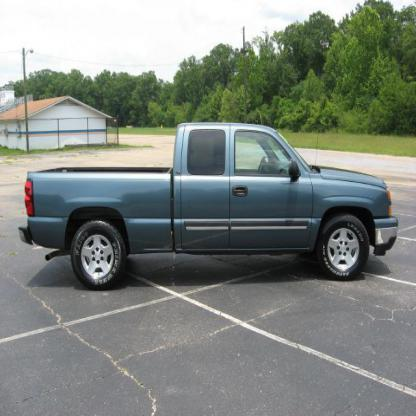Vehicle: (16, 122, 400, 292)
